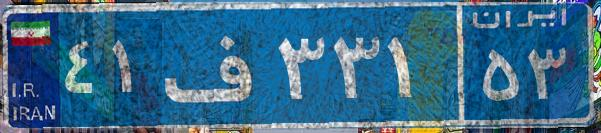1: (385, 28, 445, 110), (110, 28, 158, 105)
3: (273, 28, 330, 110), (330, 28, 385, 110), (525, 38, 570, 115)
4: (57, 26, 110, 107)
5: (475, 38, 525, 113)
ف: (158, 15, 273, 115)
